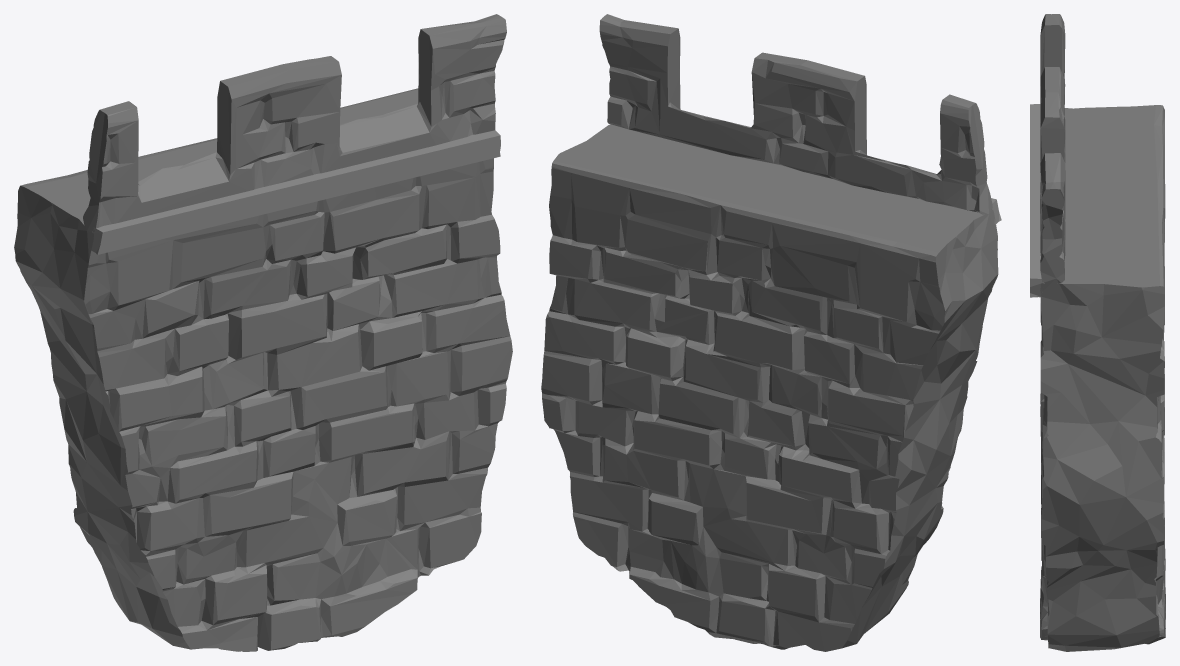
The model's file is castle_battlement_c3_destroyed_part.FBX.
3 views of the same model, side by side, from view 1: azimuth 30°, elevation 25°; view 2: azimuth 150°, elevation 25°; view 3: azimuth 270°, elevation 25° (orthographic). The views are drawn at different scales.
Visible parts, largest first — view 1: castle_battlement_c3_destroyed_part; view 2: castle_battlement_c3_destroyed_part; view 3: castle_battlement_c3_destroyed_part.
Boxes of the visible parts, x1,y1,x2,y2 form: castle_battlement_c3_destroyed_part: [14, 14, 512, 651]; castle_battlement_c3_destroyed_part: [541, 14, 1001, 651]; castle_battlement_c3_destroyed_part: [1030, 14, 1165, 651].
Size of the model in its own units: 7.25 by 9.31 by 2.18.
